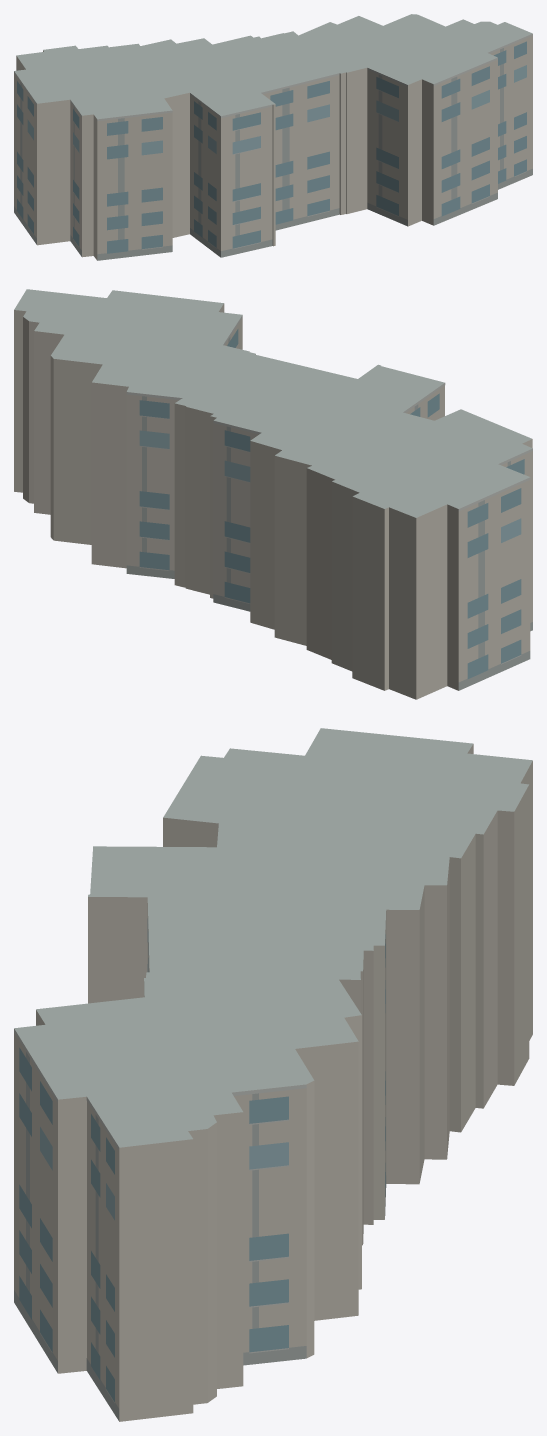
File: survey-upis-32497343.glb
3 renders of one model, top to bottom at view 1: azimuth 30°, elevation 25°; view 2: azimuth 150°, elevation 25°; view 3: azimuth 270°, elevation 25°, orthographic. The views are drawn at different scales.
Visible parts, largest first — view 1: survey-upis-32497343.tmp; view 2: survey-upis-32497343.tmp; view 3: survey-upis-32497343.tmp.
Boxes of the visible parts, x1=… form: survey-upis-32497343.tmp: x1=14, y1=14, x2=532, y2=260; survey-upis-32497343.tmp: x1=14, y1=289, x2=532, y2=699; survey-upis-32497343.tmp: x1=14, y1=728, x2=532, y2=1421.
Size of the model in its own units: 58.11 by 17.7 by 30.37.
